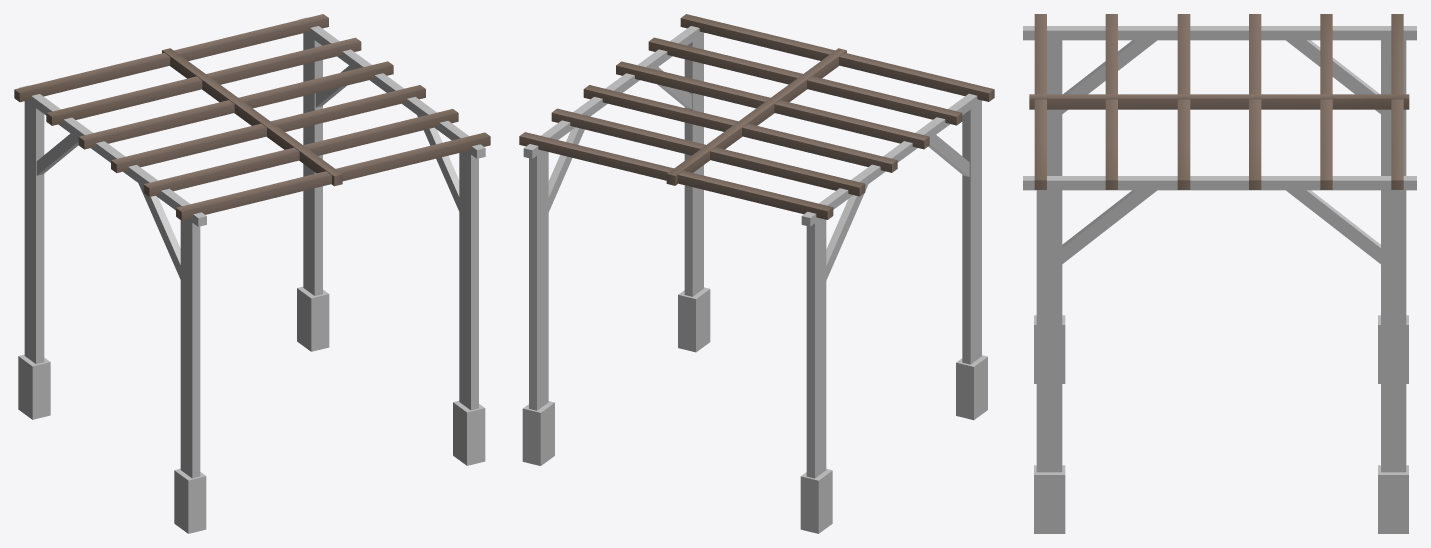
File: Prop_ParkShade01.fbx
3 views of the same model, side by side, from view 1: azimuth 30°, elevation 25°; view 2: azimuth 150°, elevation 25°; view 3: azimuth 270°, elevation 25° (orthographic). The views are drawn at different scales.
Parts seen in each view (by area): view 1: Prop_ParkShade01; view 2: Prop_ParkShade01; view 3: Prop_ParkShade01.
Boxes of the visible parts, box(x1,y1,x2,y2) form: Prop_ParkShade01: box(14, 14, 490, 533); Prop_ParkShade01: box(519, 14, 994, 533); Prop_ParkShade01: box(1023, 14, 1416, 533).
Size of the model in its own units: 3.66 by 3.67 by 3.66.
